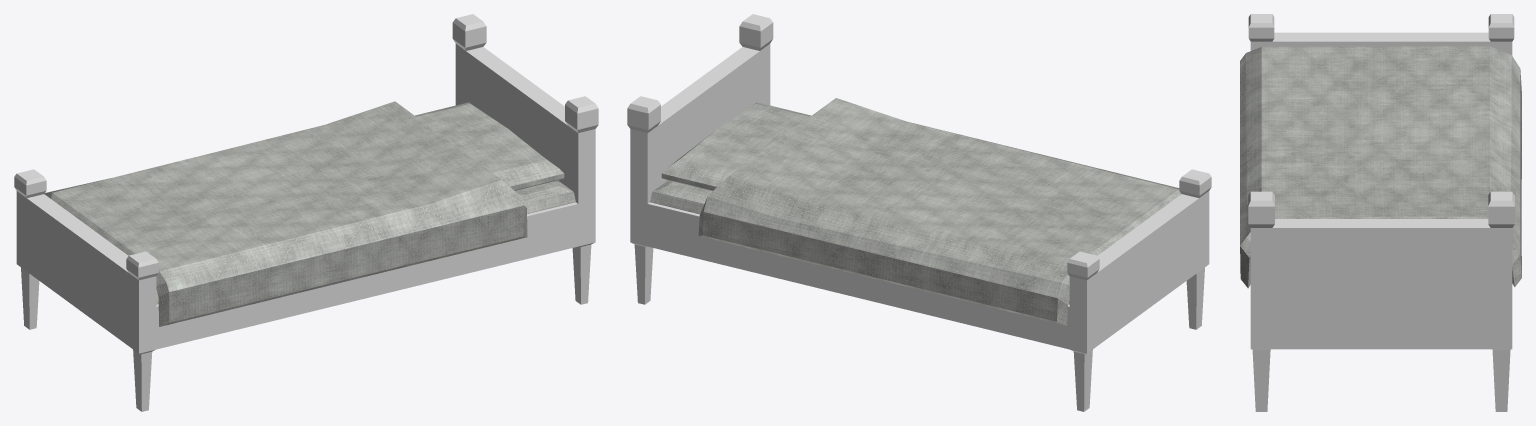
Rendered from Hunter_Bed.fbx.
The picture shows the model from 3 angles, left to right: view 1: azimuth 30°, elevation 25°; view 2: azimuth 150°, elevation 25°; view 3: azimuth 270°, elevation 25°; orthographic projection. The views are drawn at different scales.
Parts seen in each view (by area): view 1: Cube.003, Bed, Cube.002, Cube; view 2: Cube.003, Bed, Cube.002, Cube; view 3: Cube.003, Bed.
Part boxes in pixels (x1,y1,x2,y2): Cube.003: (44,101,527,326); Bed: (14,14,598,411); Cube.002: (415,102,564,190); Cube: (156,180,575,304); Cube.003: (698,98,1181,325); Bed: (627,14,1211,411); Cube.002: (661,102,810,191); Cube: (650,180,1069,304); Cube.003: (1240,46,1521,288); Bed: (1248,14,1514,411).
Size of the model in its own units: 226 by 93.76 by 112.
